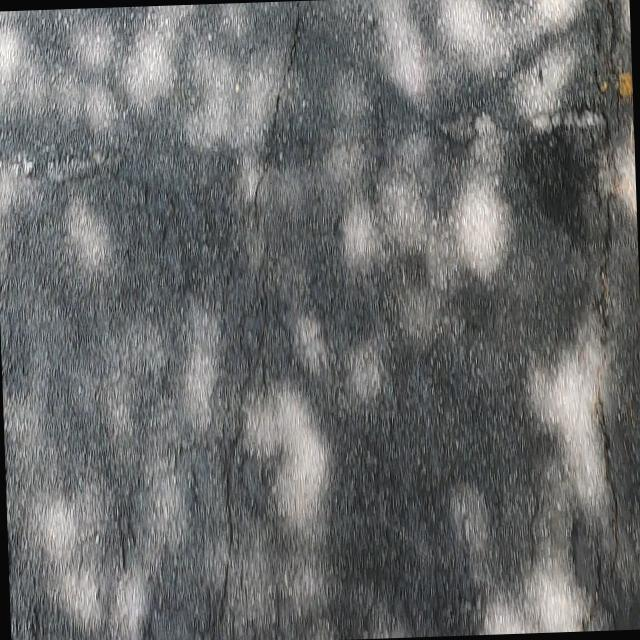Retak-Memanjang: (217, 230, 271, 625), (253, 11, 304, 229)
